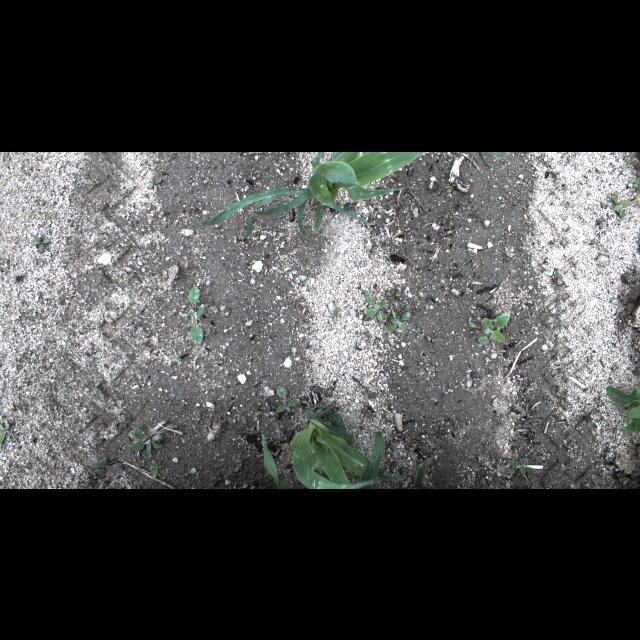crop: (186, 151, 428, 257), (262, 402, 408, 488), (416, 452, 436, 488), (478, 152, 510, 170)
weed: (606, 384, 640, 432), (180, 286, 204, 346), (468, 312, 510, 346), (129, 426, 163, 460), (276, 386, 300, 412), (365, 294, 387, 322), (387, 310, 411, 332), (82, 456, 108, 474), (610, 194, 630, 216), (506, 460, 532, 474), (32, 234, 48, 252), (150, 460, 164, 478), (82, 472, 96, 488), (385, 288, 401, 302), (0, 421, 10, 443), (42, 209, 56, 223), (147, 176, 161, 188), (331, 310, 341, 322), (633, 178, 639, 192), (203, 176, 213, 184), (557, 400, 567, 408), (118, 452, 126, 460), (43, 468, 51, 474), (95, 228, 103, 234), (177, 351, 181, 362), (154, 256, 160, 260), (550, 450, 552, 454)
